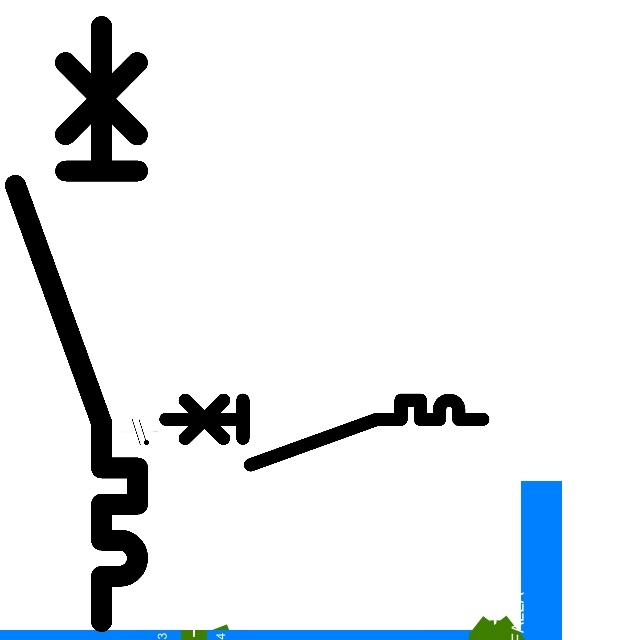interruptor_termomagnetico: (0, 11, 153, 637), (157, 392, 491, 473)
